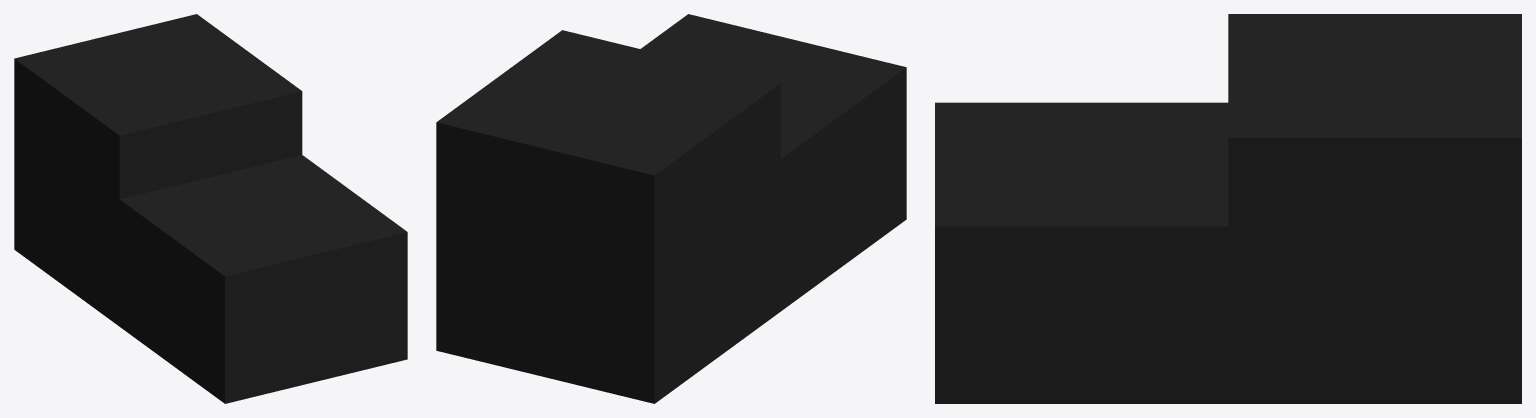
Rendered from Character_Foot_R.fbx.
3 renders of one model, left to right at view 1: azimuth 30°, elevation 25°; view 2: azimuth 150°, elevation 25°; view 3: azimuth 270°, elevation 25°, orthographic. The views are drawn at different scales.
Size of the model in its own units: 3 by 3 by 6.
1 material, 1 textured.
